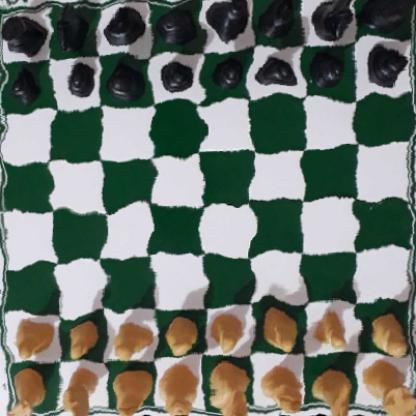black-bishop: (99, 7, 149, 48), (257, 0, 300, 42)
black-king: (204, 0, 253, 47)
black-knight: (313, 0, 355, 43), (53, 0, 87, 52)
black-pawn: (365, 40, 410, 88), (260, 48, 301, 90), (106, 58, 145, 100), (158, 57, 198, 97), (310, 48, 344, 90), (211, 53, 245, 93), (63, 59, 95, 98), (6, 68, 41, 103)
black-queen: (155, 0, 200, 50)
black-rook: (0, 6, 45, 54), (366, 0, 413, 31)
white-bishop: (265, 362, 301, 415), (114, 365, 149, 415)
white-king: (207, 362, 253, 416)
white-knight: (309, 366, 349, 415), (63, 368, 99, 416)
white-pawn: (9, 318, 52, 361), (206, 312, 246, 356), (370, 311, 408, 352), (109, 319, 146, 361), (312, 308, 349, 350), (259, 308, 295, 351), (65, 317, 100, 358), (161, 316, 197, 354)
white-queen: (156, 363, 201, 416)
white-rook: (367, 356, 416, 416), (7, 364, 49, 416)
